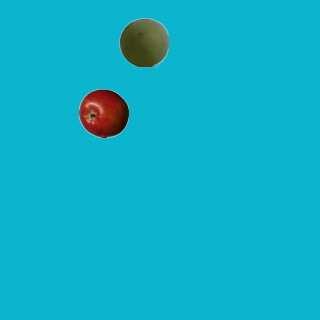Apple Braeburn: (78, 88, 128, 138)
Grape White 4: (118, 17, 168, 67)
